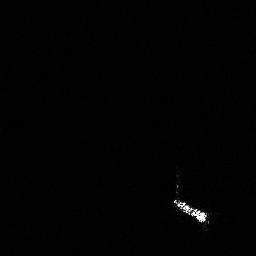ship: (170, 195, 211, 225)
